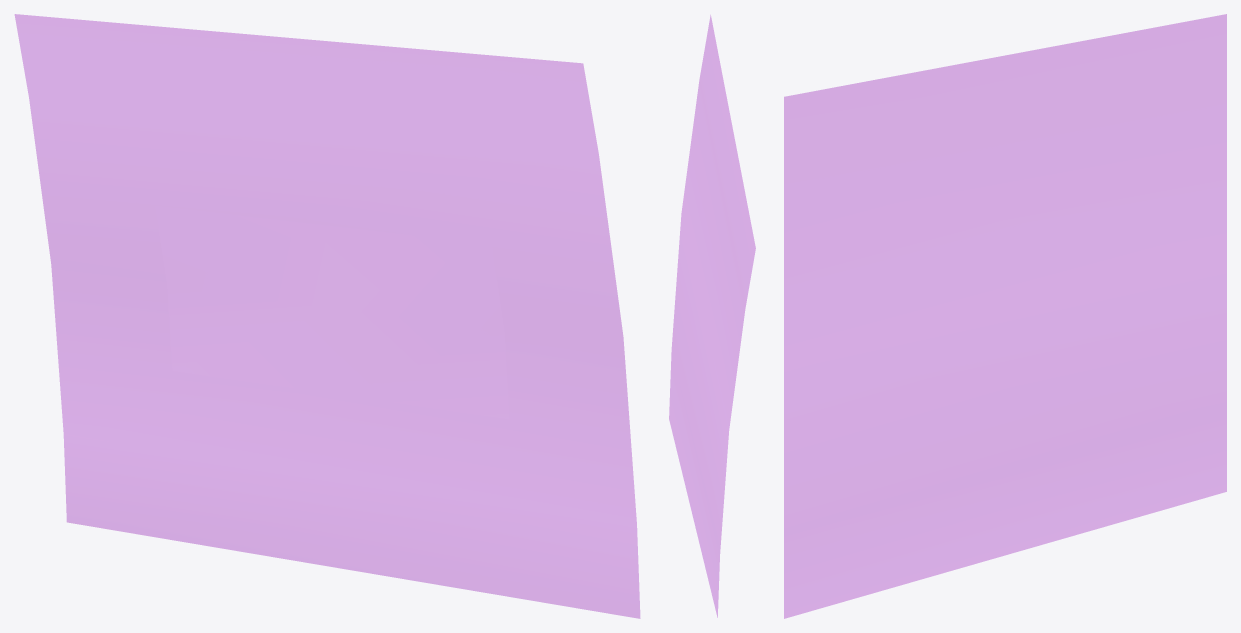
The model's file is Mesh_Note_02.fbx.
3 renders of one model, left to right at view 1: azimuth 30°, elevation 25°; view 2: azimuth 150°, elevation 25°; view 3: azimuth 270°, elevation 25°, orthographic. The views are drawn at different scales.
Visible parts, largest first — view 1: Mesh_Note_02; view 2: Mesh_Note_02; view 3: Mesh_Note_02.
Boxes of the visible parts, x1,y1,x2,y2 form: Mesh_Note_02: (14,14,640,618); Mesh_Note_02: (669,14,755,617); Mesh_Note_02: (784,14,1226,618).
Size of the model in its own units: 0.1899 by 0.2826 by 0.2236.
